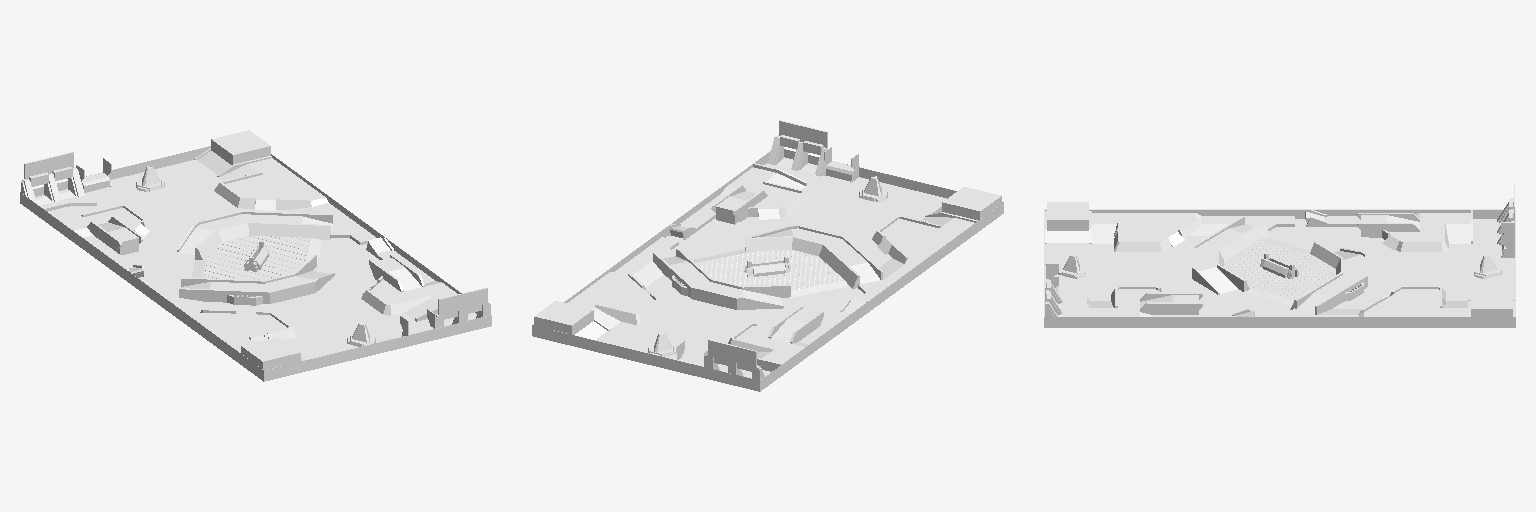
The robot description file, URDF, robot "simple_meca_car":
<?xml version="1.0" encoding="utf-8"?>
<!-- This URDF was automatically created by SolidWorks to URDF Exporter! Originally created by [author] ([email redacted]) 
     Commit Version: 1.6.0-4-g7f85cfe  Build Version: 1.6.7995.38578
     For more information, please see http://wiki.ros.org/sw_urdf_exporter -->
<robot
  name="simple_meca_car">
  <link
    name="base_link">
    <inertial>
      <origin
        xyz="7.5101 13.92 0.28324"
        rpy="0 0 0" />
      <mass
        value="159060" />
      <inertia
        ixx="3035400"
        ixy="19367"
        ixz="1.3698"
        iyy="1013700"
        iyz="-1.3687"
        izz="4037800" />
    </inertial>
    <visual>
      <origin
        xyz="0 0 0"
        rpy="0 0 0" />
      <geometry>
        <mesh
          filename="package://simple_meca_car/meshes/base_link.stl" />
      </geometry>
      <material
        name="">
        <color
          rgba="1 1 1 1" />
      </material>
    </visual>
    <collision>
      <origin
        xyz="0 0 0"
        rpy="0 0 0" />
      <geometry>
        <mesh
          filename="package://simple_meca_car/meshes/base_link.stl" />
      </geometry>
    </collision>
  </link>
</robot>

--- Facts derived from the render (not from the file) ---
The picture shows the robot from 3 angles, left to right: view 1: azimuth 30°, elevation 25°; view 2: azimuth 150°, elevation 25°; view 3: azimuth 270°, elevation 25°; orthographic projection.
Model simple_meca_car with 1 links and 0 joints (none), rooted at base_link, posed every joint at zero.
Links seen in each view (by area): view 1: base_link; view 2: base_link; view 3: base_link.
Link boxes in pixels (x1,y1,x2,y2): base_link: (20,130,491,381); base_link: (532,120,1003,391); base_link: (1044,184,1515,327).
Bounding box of the posed robot: 15.02 × 27.84 × 2.47 m (x, y, z).
1 mesh visuals loaded from 1 distinct referenced files (1 binary STL).